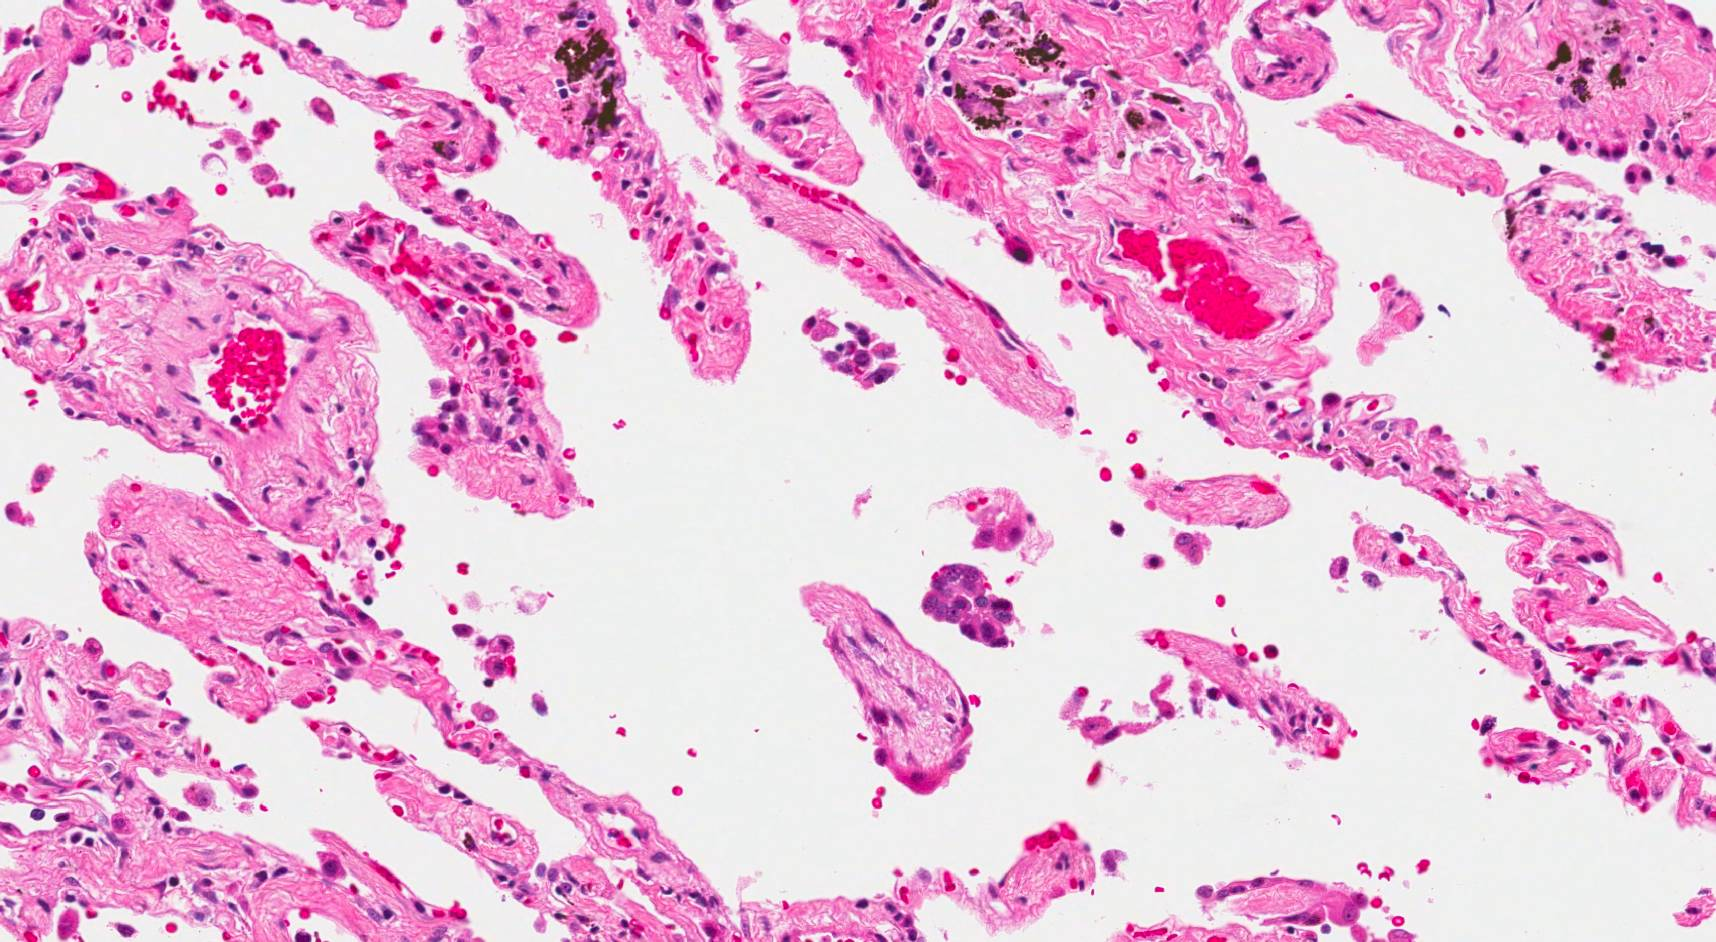stas: (919, 561, 1022, 650), (820, 320, 900, 391)
